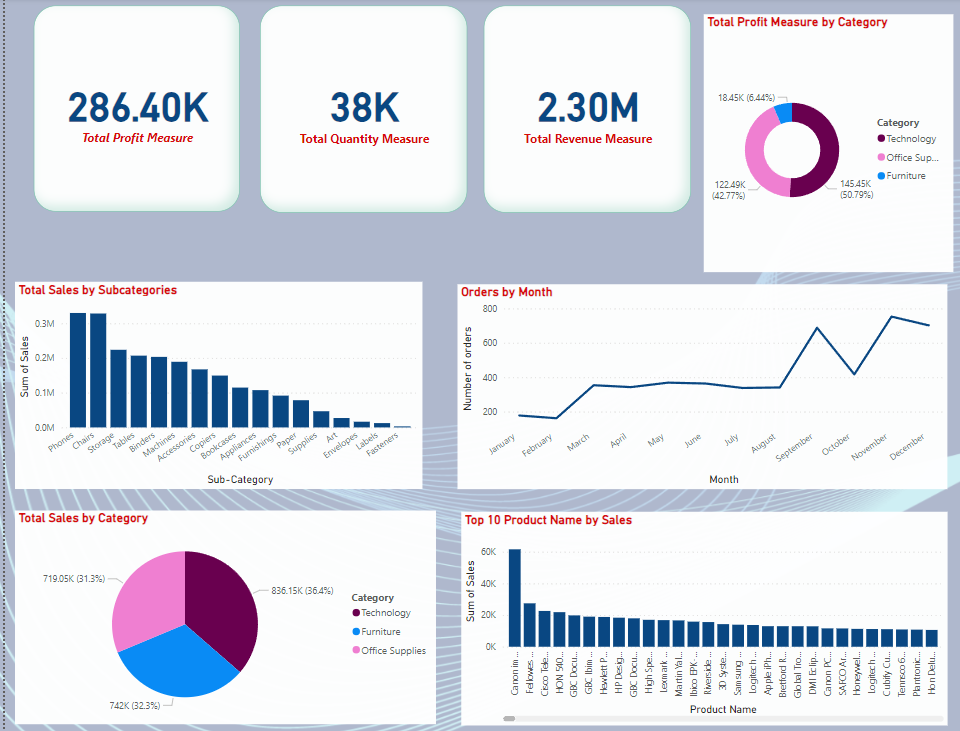

This screenshot's page, from the dashboard's own definition file:
{"tool":"powerbi","page":{"name":"Page ","canvas":[1300,1000],"ordinal":0},"visuals":[{"type":"card","title":"Measures","fields":{"Values":["FactSales.Total Profit Measure"]},"box":[39.7,10.7,279.7,279.7],"z":0},{"type":"card","fields":{"Values":["FactSales.Total Quantity Measure"]},"box":[345.8,10.4,281.2,281.2],"z":1000},{"type":"card","fields":{"Values":["FactSales.Total Revenue Measure"]},"box":[649.6,10.7,281.3,281.3],"z":2000},{"type":"lineChart","title":"Orders by Month","fields":{"Category":["Dim date.Order Date.Variation.Date Hierarchy.Month"],"Y":["FactSales.Number of orders"]},"box":[614.8,388.9,665.8,278.5],"z":2001},{"type":"pieChart","title":"Total Sales by Category","fields":{"Y":["Sum(FactSales.Sales)"],"Category":["Dim Products.Category"]},"box":[13.6,696.3,572.4,290.4],"z":2002},{"type":"donutChart","fields":{"Y":["FactSales.Total Profit Measure"],"Category":["Dim Products.Category"]},"box":[949.2,21.4,339.3,350],"z":2003},{"type":"clusteredColumnChart","title":"Total Sales by Subcategories","fields":{"Y":["Sum(FactSales.Sales)"],"Category":["Dim Products.Sub-Category"]},"box":[13.6,385.5,553.7,281.9],"z":2004},{"type":"clusteredColumnChart","title":"Top 10 Product Name by Sales","fields":{"Category":["Dim Products.Product Name"],"Y":["Sum(FactSales.Sales)"]},"box":[619.9,698,660.7,290.4],"z":2005}]}

Visuals, with their boxes in screenshot pixels (x1, y1, x2, y2), scaled from the page's 1300x1000 canvas onto the 960x731 screenshot:
"Measures" card: detection(29, 8, 236, 212)
card - FactSales.Total Quantity Measure: detection(255, 8, 463, 213)
card - FactSales.Total Revenue Measure: detection(480, 8, 687, 213)
"Orders by Month" lineChart: detection(454, 284, 946, 488)
"Total Sales by Category" pieChart: detection(10, 509, 433, 721)
donutChart - FactSales.Total Profit Measure x Dim Products.Category: detection(701, 16, 952, 271)
"Total Sales by Subcategories" clusteredColumnChart: detection(10, 282, 419, 488)
"Top 10 Product Name by Sales" clusteredColumnChart: detection(458, 510, 946, 723)
